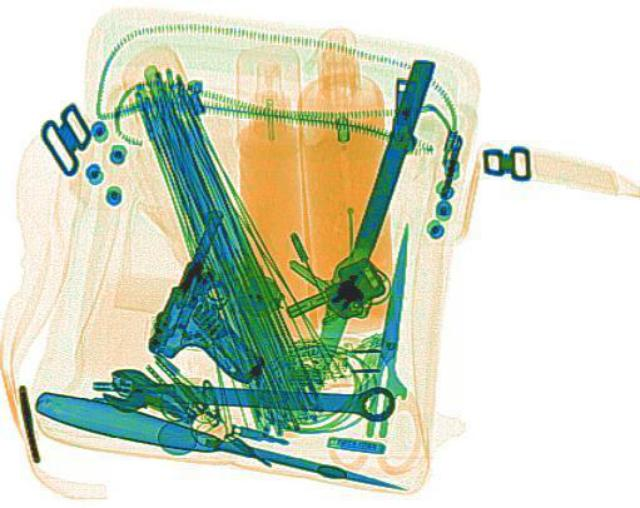Gun: (132, 205, 328, 383), (348, 220, 430, 435)
Knife: (295, 56, 435, 410), (29, 384, 413, 501)
Wrench: (99, 364, 395, 421)
